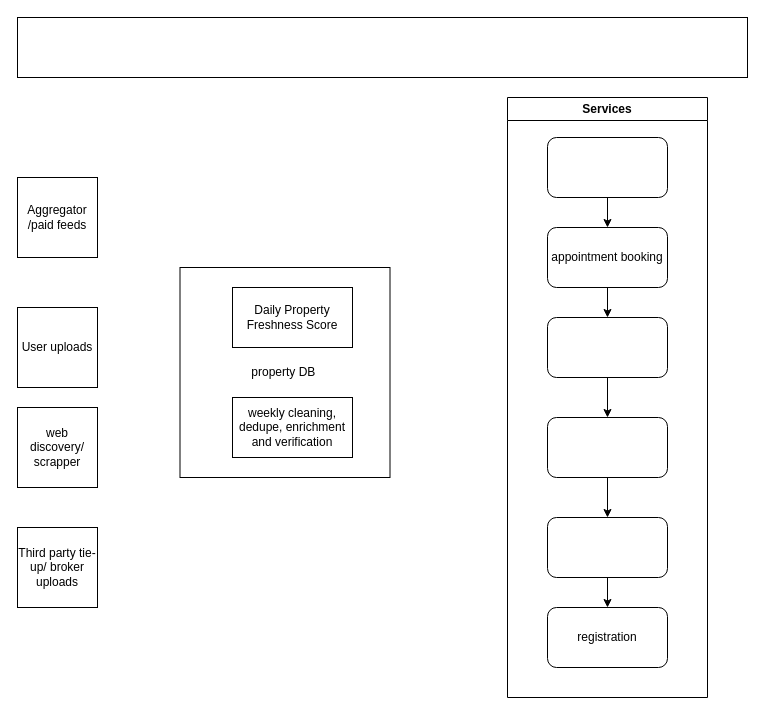
The diagram is 765 pixels wide and 715 high, and some of its shapes have lost their labels. Each missing label, with the centre of its shape:
"Agent Allocation" goes at point (607, 347).
"agreement creation" goes at point (607, 547).
"MOAT - LLM, fresh inventory, verified listings, fast visits ,trust" goes at point (382, 47).
"property finalization & amt negotiation" goes at point (607, 447).
"property search & finalization" goes at point (607, 167).
